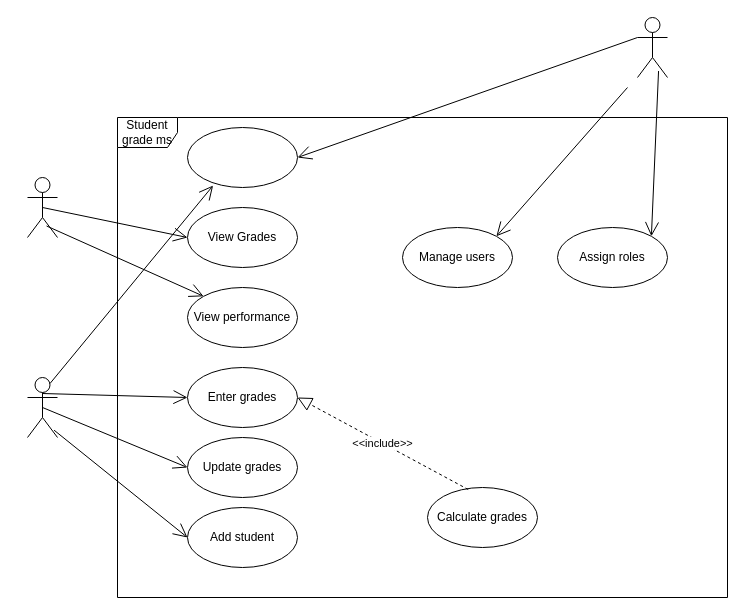
This 745x615 diagram has some shape labels left out. Here are the shapes that lost their labels. From the top down, the centre of each, then its label:
At point 652,47: "Admin".
At point 242,157: "Login".
At point 42,207: "Student".
At point 42,407: "Instructor".
